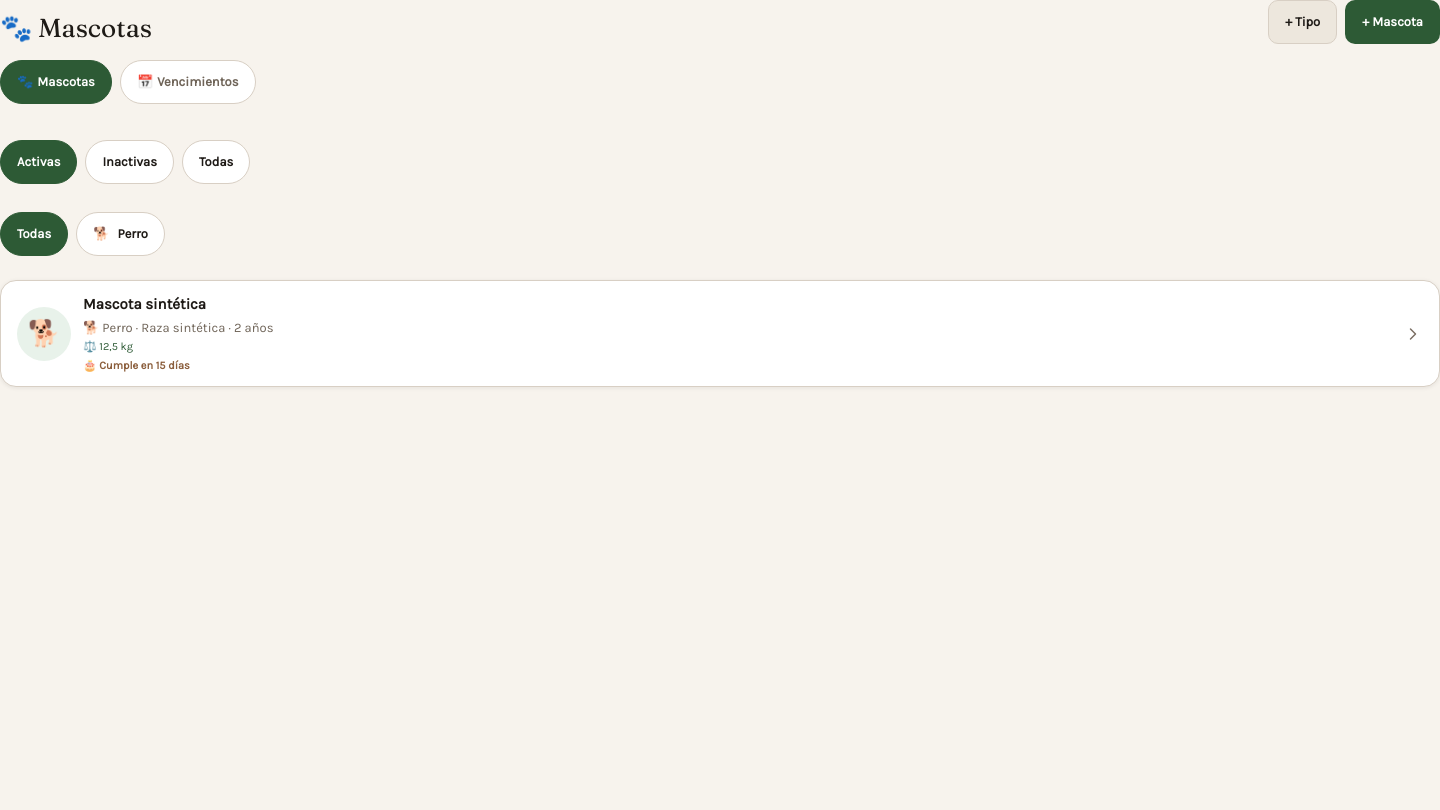
🐾 Mascotas — listado › ADMIN: eliminar un tipo agregado — confirmación irreversible, 409 PET_TYPE_IN_USE visible, doble clic = 1 request
This screenshot has width=1440, height=810.
Click the button "+ Tipo" at (1303, 22), box [1268,0,1337,44]
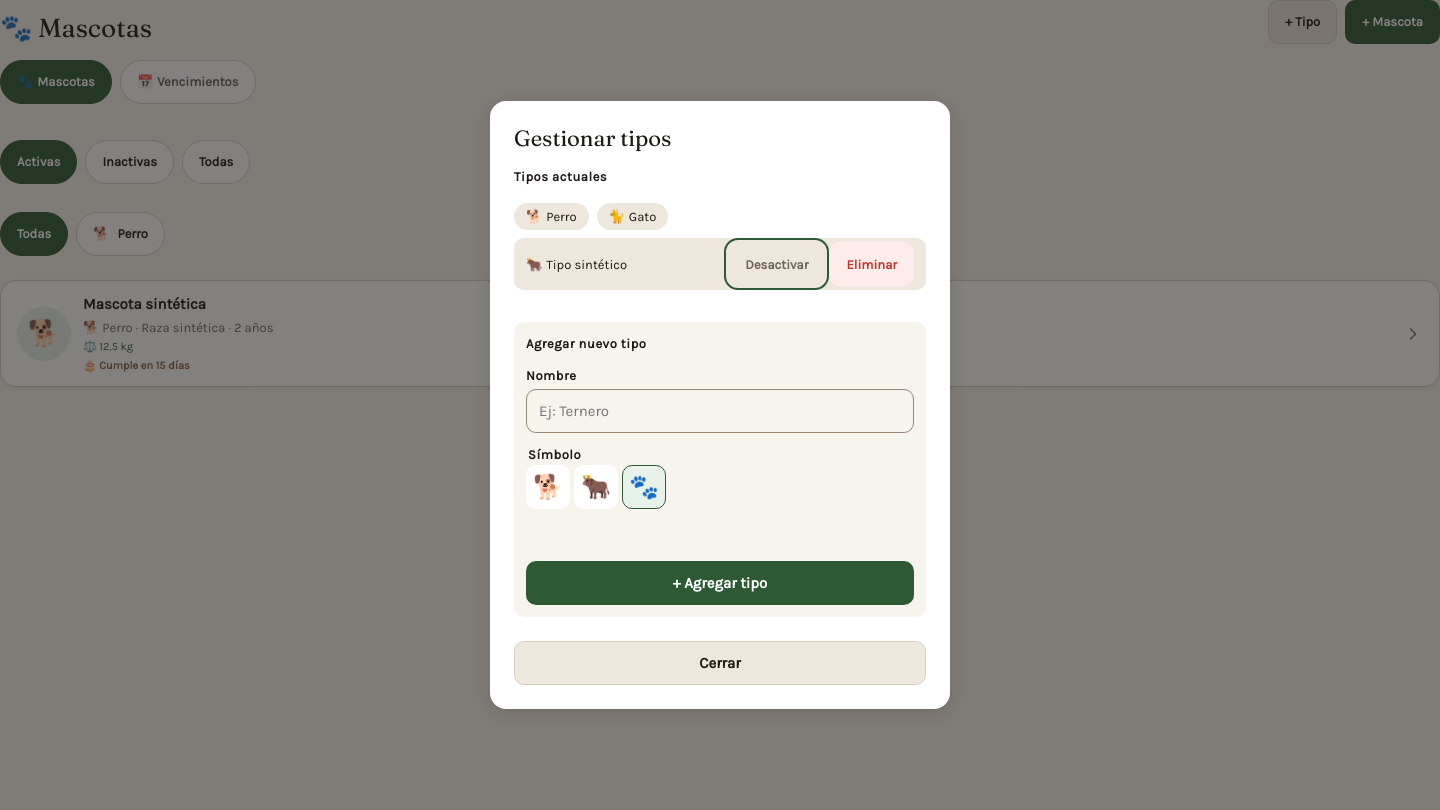
Click the button named "Eliminar el tipo Tipo sintético" at (872, 264), box [829,242,914,286]
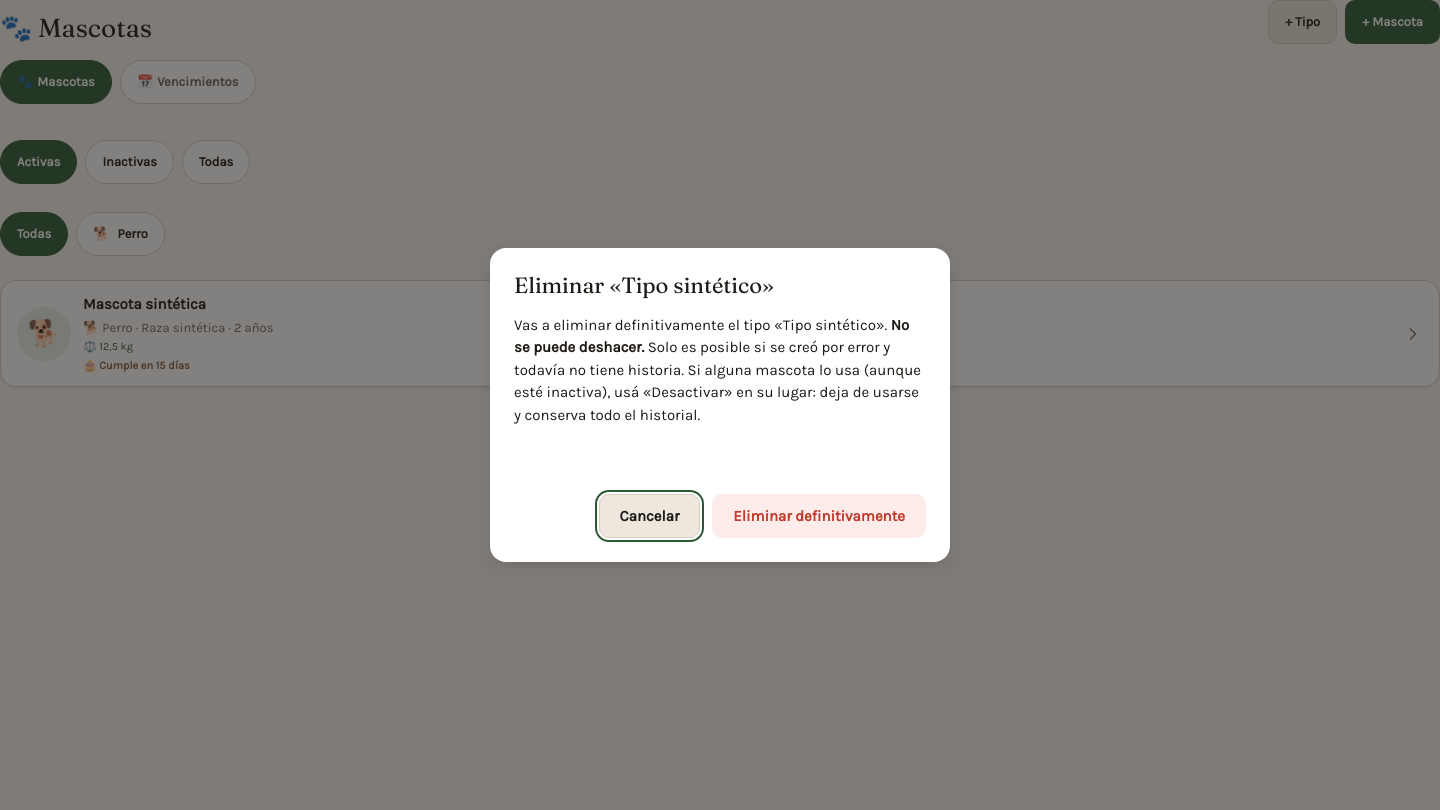
Check: the dialog "Eliminar «Tipo sintético»" shows "No se puede deshacer", box [514,316,909,356]
Check: the dialog "Eliminar «Tipo sintético»" shows "«Desactivar»", box [514,383,919,424]
Double-click the button "Eliminar definitivamente" at (819, 516), box [712,494,926,538]
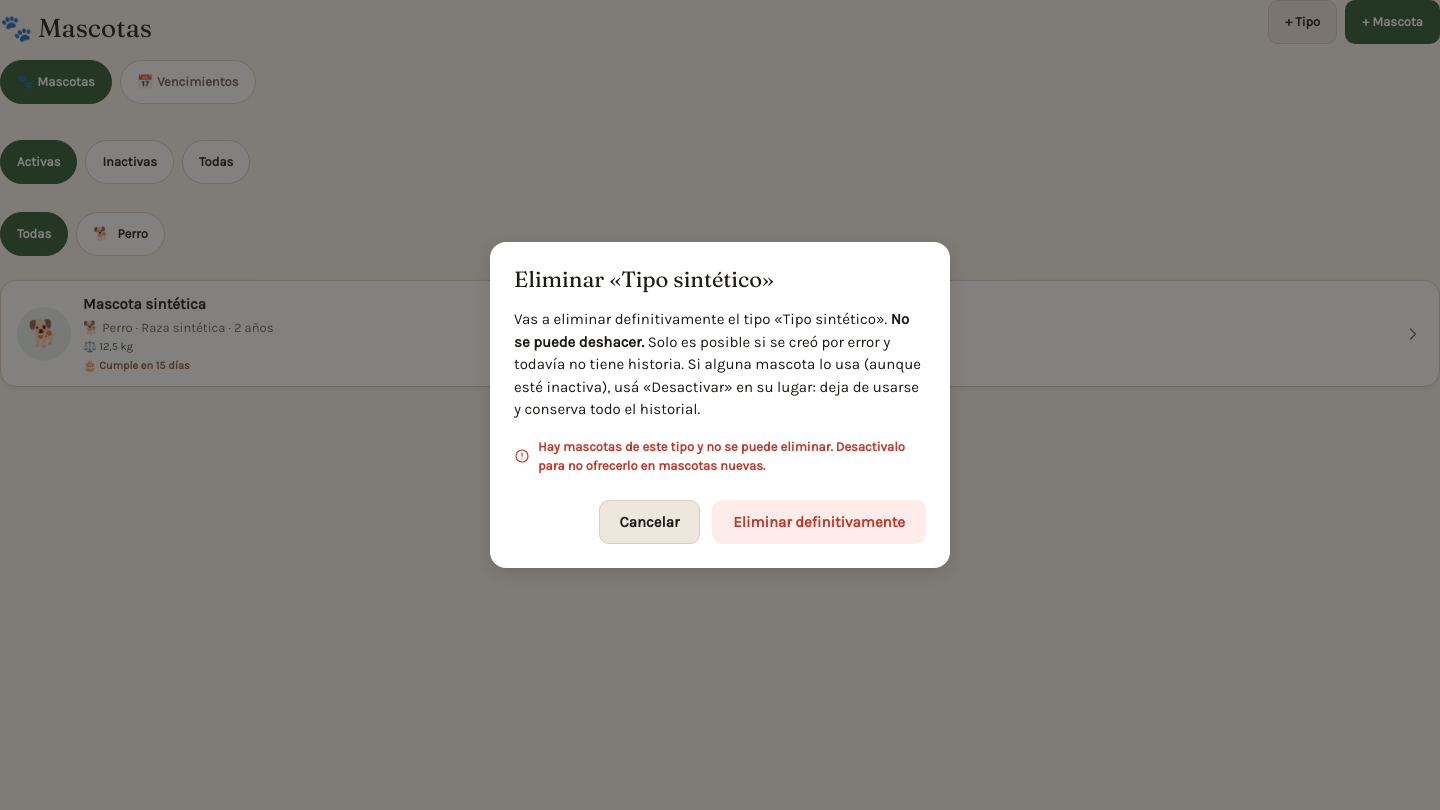
Check: the message shows "Desactivalo", box [538,439,905,473]
